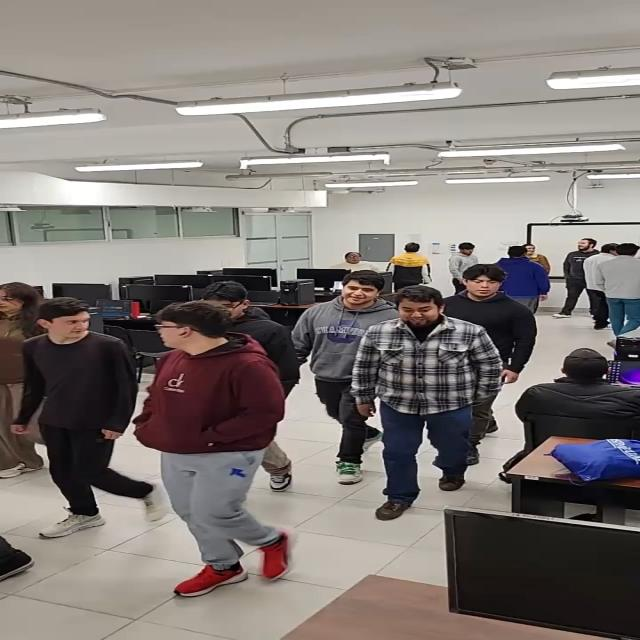Persona: (130, 300, 304, 596), (17, 295, 146, 537), (364, 286, 478, 522), (287, 268, 376, 485), (453, 264, 531, 439), (596, 242, 640, 341), (556, 234, 593, 322)
